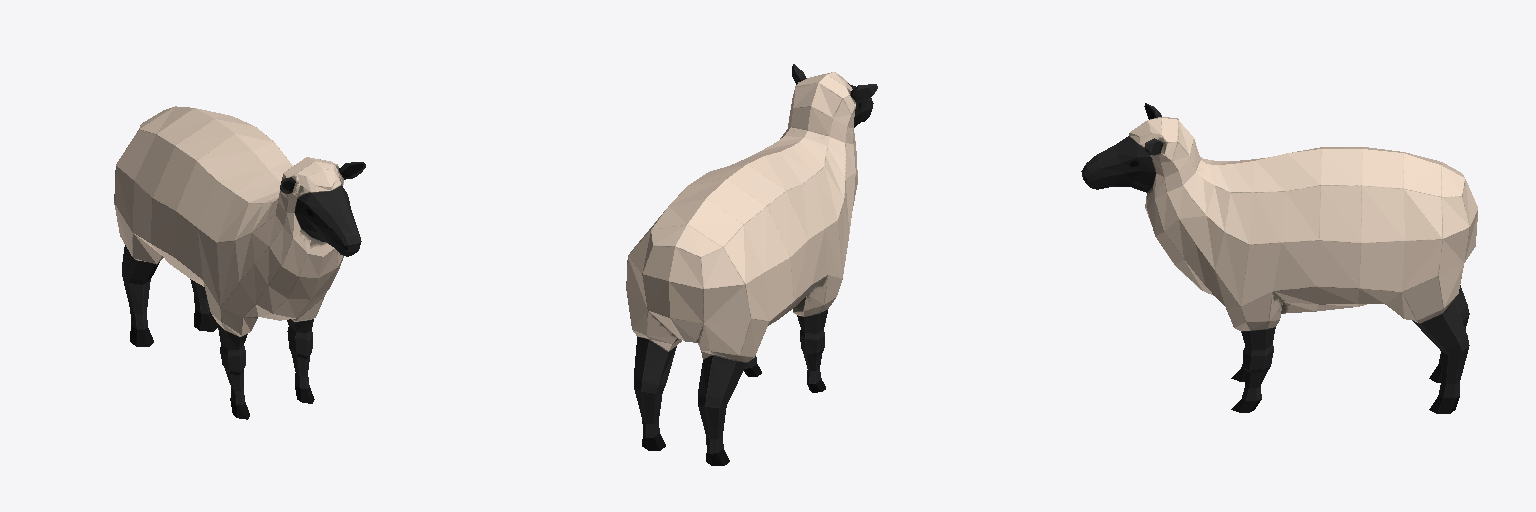
3 renders of one model, left to right at view 1: azimuth 30°, elevation 25°; view 2: azimuth 150°, elevation 25°; view 3: azimuth 270°, elevation 25°, orthographic.
Visible parts, largest first — view 1: Sheep_mesh; view 2: Sheep_mesh; view 3: Sheep_mesh.
Part boxes in pixels (x1,y1,x2,y2): Sheep_mesh: (114,106,365,419); Sheep_mesh: (626,64,877,465); Sheep_mesh: (1081,103,1477,413).
Bounding box in the file's own units: 2.46 × 4.93 × 6.42.
1 materials, 1 textured.